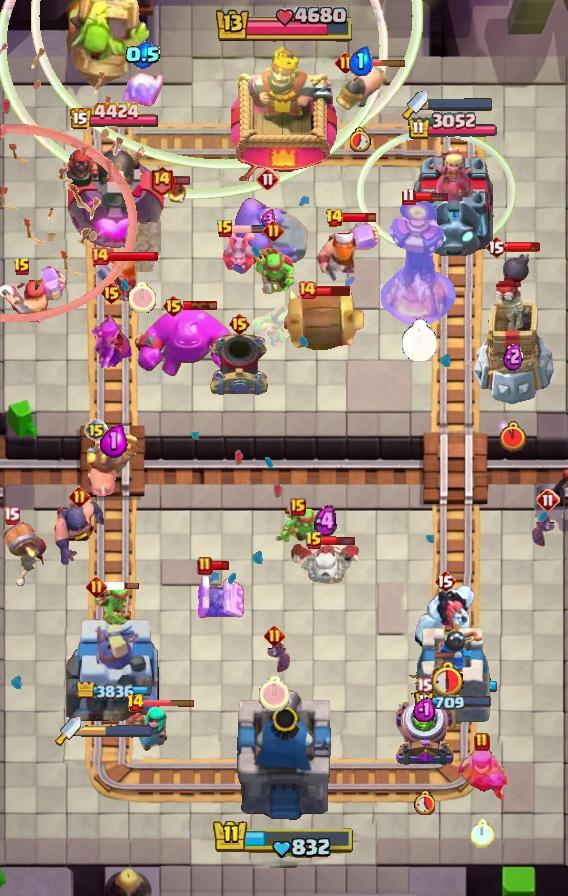archer-evolution: (88, 308, 134, 368)
bar: (107, 250, 159, 262), (142, 698, 196, 707), (353, 58, 407, 67), (315, 284, 352, 297), (321, 534, 356, 547), (342, 211, 377, 224), (505, 241, 541, 253), (413, 191, 449, 202), (183, 300, 218, 311), (104, 581, 140, 591), (231, 224, 267, 234), (211, 560, 230, 571), (172, 175, 191, 186)
bar-level: (149, 165, 174, 196), (536, 488, 560, 512), (84, 418, 108, 442), (256, 167, 280, 191), (228, 312, 251, 336), (162, 294, 185, 318), (100, 281, 123, 305), (434, 569, 456, 593), (485, 235, 507, 259), (264, 625, 285, 646), (86, 576, 107, 597), (69, 486, 90, 507), (263, 220, 284, 241), (335, 52, 356, 73), (297, 280, 317, 300), (90, 246, 110, 266), (126, 693, 145, 713), (325, 208, 344, 228), (305, 531, 323, 551), (13, 257, 31, 277), (216, 219, 234, 239), (416, 677, 433, 696), (3, 506, 20, 525), (474, 732, 490, 752), (197, 556, 213, 576), (290, 498, 306, 516), (401, 187, 416, 206)
barbarian-barrel: (276, 286, 366, 354)
bat: (258, 639, 290, 673), (532, 513, 564, 547)
cannoneer-tower: (61, 132, 168, 256)
clock: (401, 319, 438, 363), (427, 659, 464, 699), (259, 676, 289, 711), (129, 282, 156, 313), (500, 421, 526, 452), (470, 819, 495, 848), (414, 790, 435, 815), (350, 127, 371, 152)
dagger-duchess-tower: (66, 611, 162, 731), (409, 142, 497, 256)
dagger-duchess-tower-bar: (81, 724, 153, 738), (428, 98, 492, 111)
dirt: (123, 222, 161, 272)
elixir: (125, 41, 161, 69), (100, 423, 128, 458), (314, 505, 337, 538), (348, 46, 373, 76), (503, 342, 523, 371), (413, 696, 435, 722), (261, 209, 276, 229)
executioner: (53, 498, 105, 570)
fire-spirit: (167, 181, 187, 203)
ice-spirit-evolution: (120, 69, 166, 111)
king-tower: (232, 686, 336, 826), (231, 45, 337, 181)
king-tower-bar: (212, 818, 356, 860), (213, 7, 355, 45)
lumberjack: (0, 266, 68, 328), (316, 218, 380, 282)
minion: (222, 227, 256, 273)
mortar: (208, 331, 270, 399)
mortar-evolution: (392, 698, 456, 768)
mother-witch: (454, 743, 510, 803)
queen-tower: (409, 616, 497, 731)
rascal-girl: (126, 705, 170, 753)
royal-hog: (333, 63, 387, 113)
spear-goblin: (249, 246, 297, 296), (274, 507, 322, 551), (251, 305, 299, 349), (91, 582, 133, 628)
tesla: (193, 571, 245, 621)
tower-bar: (69, 102, 160, 132), (407, 112, 499, 141), (414, 691, 493, 712), (76, 682, 153, 699)
valkyrie: (94, 258, 138, 308)
wall-breaker: (0, 519, 48, 589)
